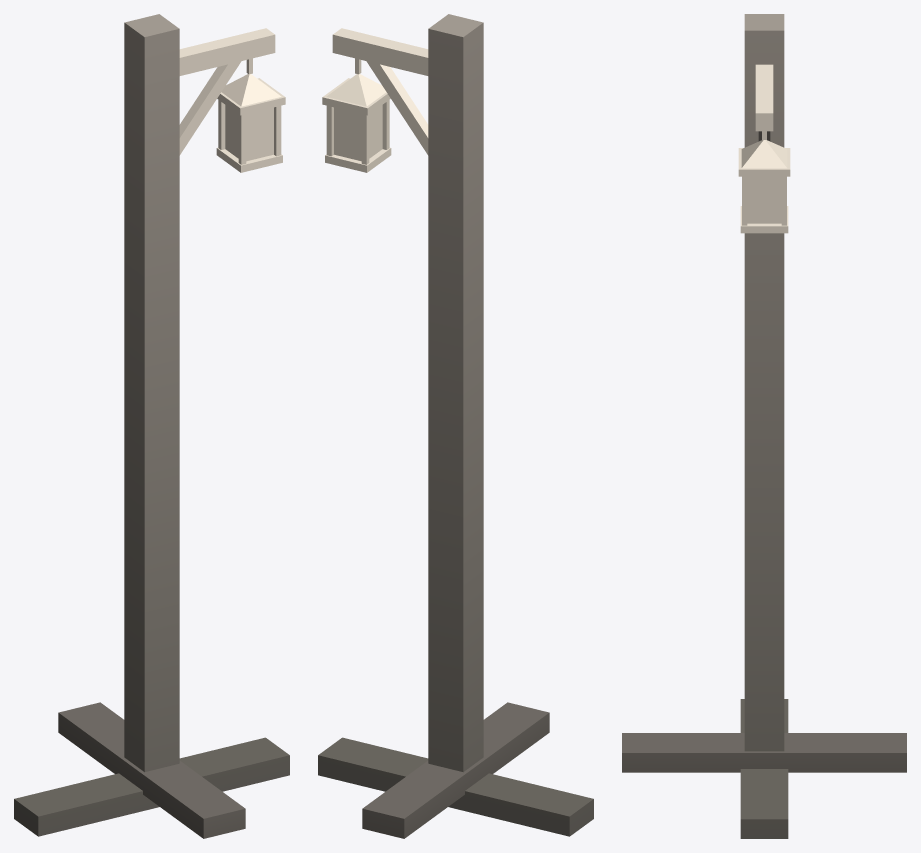
The model's file is SM_VKI_Prop_Mine_LanternPole.fbx.
The picture shows the model from 3 angles, left to right: view 1: azimuth 30°, elevation 25°; view 2: azimuth 150°, elevation 25°; view 3: azimuth 270°, elevation 25°; orthographic projection.
Parts seen in each view (by area): view 1: SM_VKI_Prop_Mine_LanternPole.001; view 2: SM_VKI_Prop_Mine_LanternPole.001; view 3: SM_VKI_Prop_Mine_LanternPole.001.
Boxes of the visible parts, x1,y1,x2,y2 form: SM_VKI_Prop_Mine_LanternPole.001: (14,14,289,838); SM_VKI_Prop_Mine_LanternPole.001: (318,14,593,838); SM_VKI_Prop_Mine_LanternPole.001: (622,14,906,838).
Bounding box in the file's own units: 0.72 × 2.11 × 0.72.
